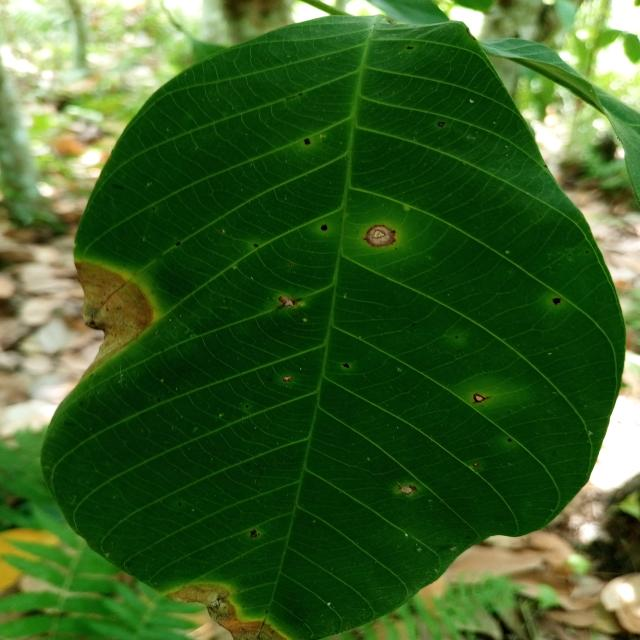Colletotrichum: (366, 224, 396, 247), (473, 392, 486, 402), (552, 298, 562, 305), (437, 121, 445, 128), (321, 224, 328, 231), (304, 138, 311, 145), (342, 363, 350, 368), (473, 461, 479, 467), (406, 46, 414, 50), (175, 242, 181, 246), (507, 438, 512, 442), (290, 264, 294, 267), (254, 244, 258, 247)
Leaf-Blight: (74, 261, 154, 375), (164, 582, 287, 640)
